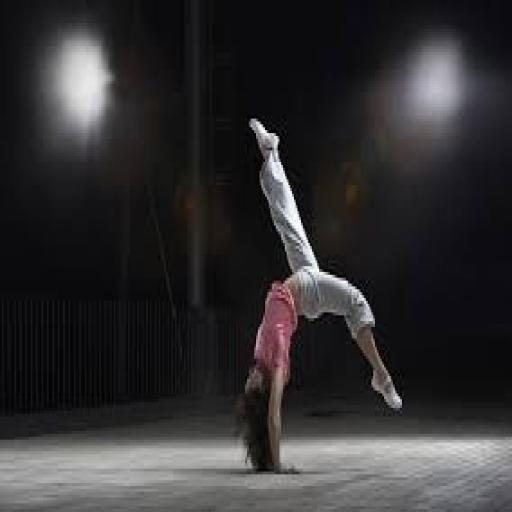dancing: (230, 113, 406, 477)
